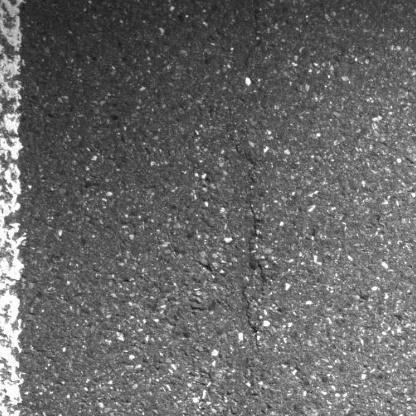Cracks: (232, 138, 271, 344)
